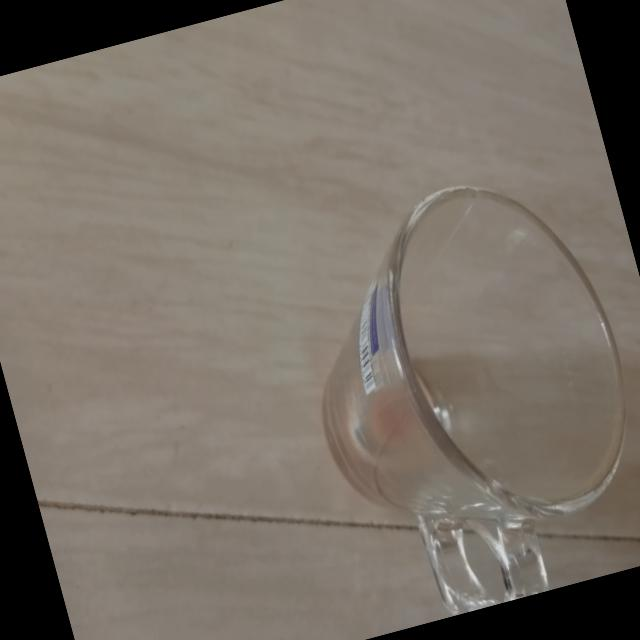glass-VX4N: (272, 158, 640, 635)
